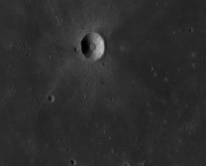crater: (71, 17, 126, 85), (34, 81, 73, 113)
